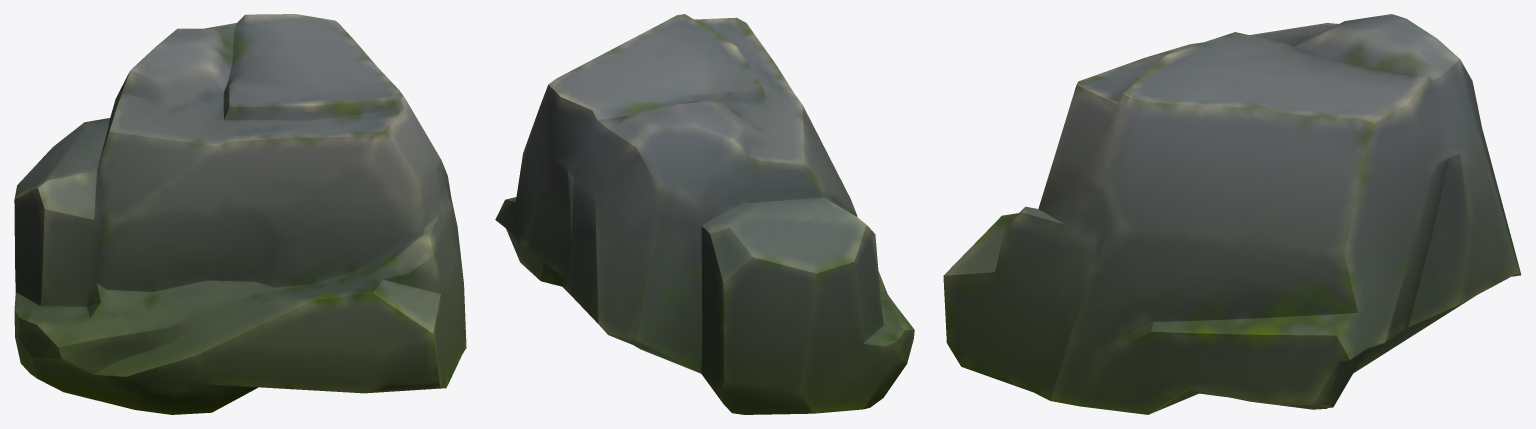
File: Rock_Medium_3.gltf
The picture shows the model from 3 angles, left to right: view 1: azimuth 30°, elevation 25°; view 2: azimuth 150°, elevation 25°; view 3: azimuth 270°, elevation 25°; orthographic projection. The views are drawn at different scales.
Parts seen in each view (by area): view 1: Rock_Medium_3; view 2: Rock_Medium_3; view 3: Rock_Medium_3.
Part boxes in pixels (x1,y1,x2,y2): Rock_Medium_3: (14, 14, 466, 414); Rock_Medium_3: (495, 14, 914, 414); Rock_Medium_3: (943, 14, 1521, 414).
Size of the model in its own units: 3.42 by 2.32 by 3.48.
Materials: 1 (1 with a texture image).
